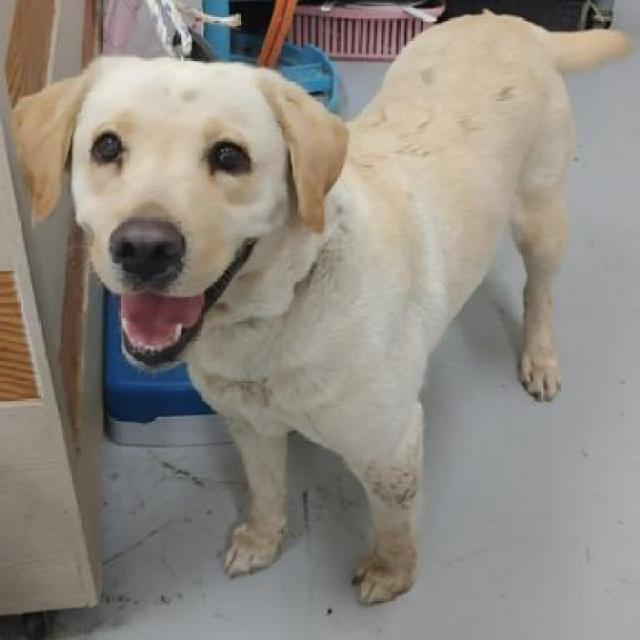Dog: (0, 0, 635, 609)
